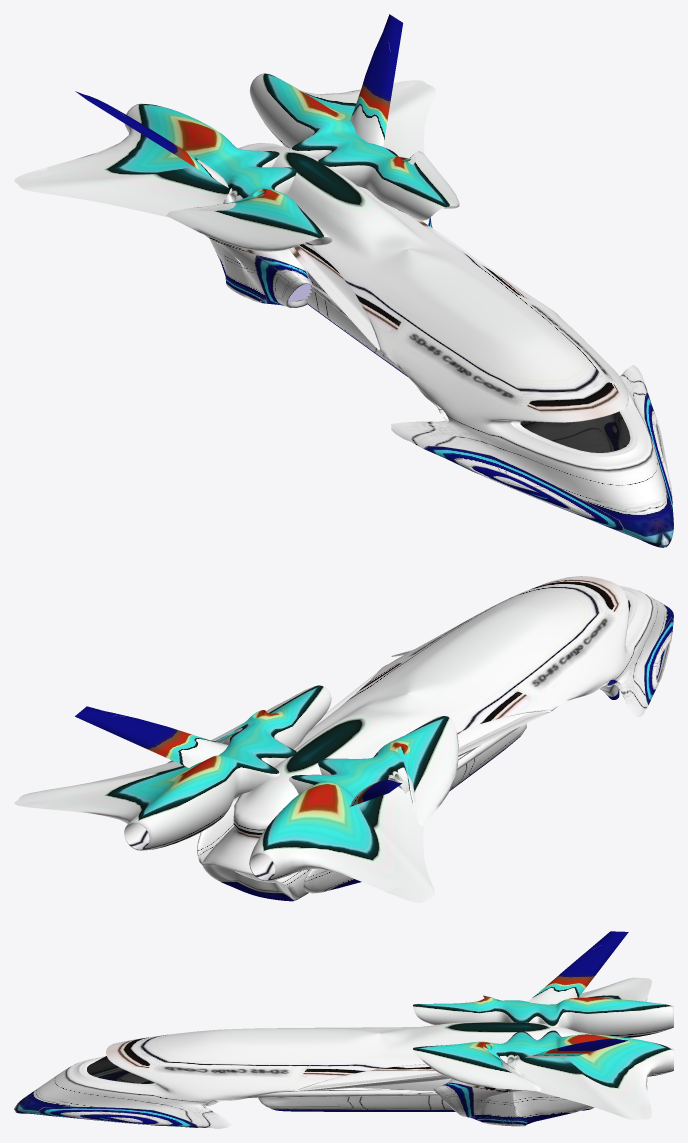
File: SD85 Cargo Starship.fbx
3 views of the same model, one above another, from view 1: azimuth 30°, elevation 25°; view 2: azimuth 150°, elevation 25°; view 3: azimuth 270°, elevation 25° (orthographic). The views are drawn at different scales.
Visible parts, largest first — view 1: mesh01, Mesh; view 2: mesh01; view 3: mesh01, Mesh.
Boxes of the visible parts, bbox=[...] form: mesh01: bbox=[14, 14, 673, 547]; Mesh: bbox=[520, 411, 630, 452]; mesh01: bbox=[14, 576, 673, 902]; mesh01: bbox=[14, 931, 673, 1128]; Mesh: bbox=[87, 1056, 153, 1083].
Size of the model in its own units: 263 by 108 by 514.
Materials: 5 (2 with a texture image).
